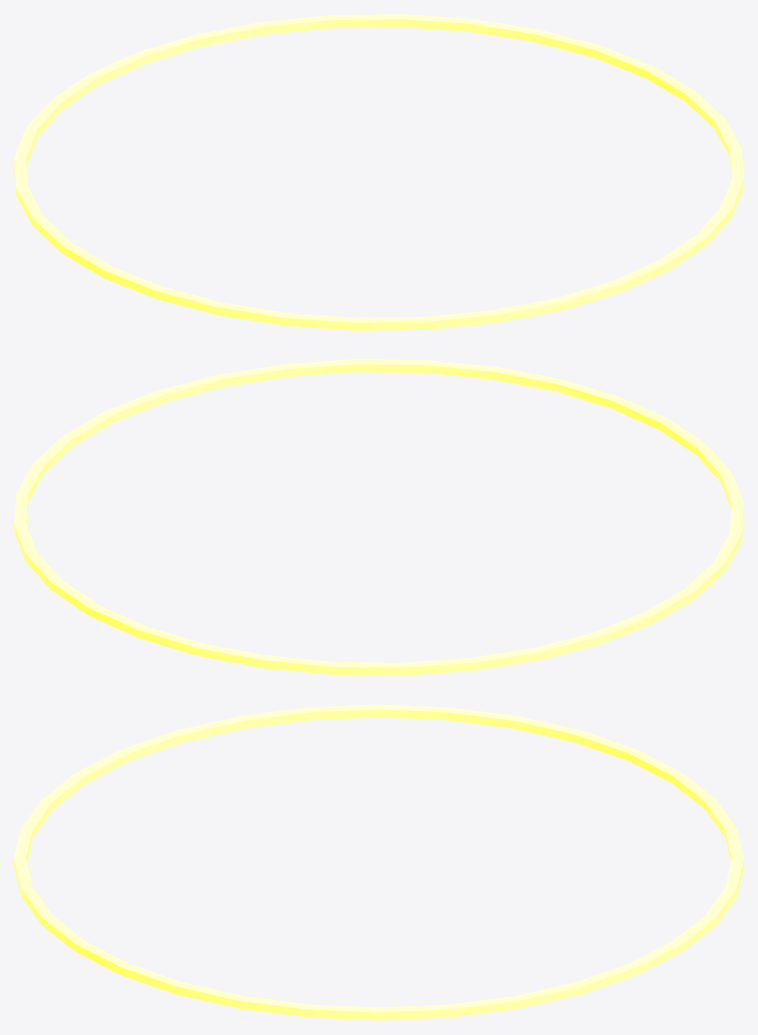
3 views of the same model, one above another, from view 1: azimuth 30°, elevation 25°; view 2: azimuth 150°, elevation 25°; view 3: azimuth 270°, elevation 25° (orthographic).
Parts seen in each view (by area): view 1: Circle1; view 2: Circle1; view 3: Circle1.
Part boxes in pixels (left/top/right/bottom): Circle1: left=14, top=14, right=743, bottom=330; Circle1: left=14, top=359, right=743, bottom=675; Circle1: left=14, top=704, right=743, bottom=1020.
Size of the model in its own units: 8.65 by 0.1045 by 8.66.
